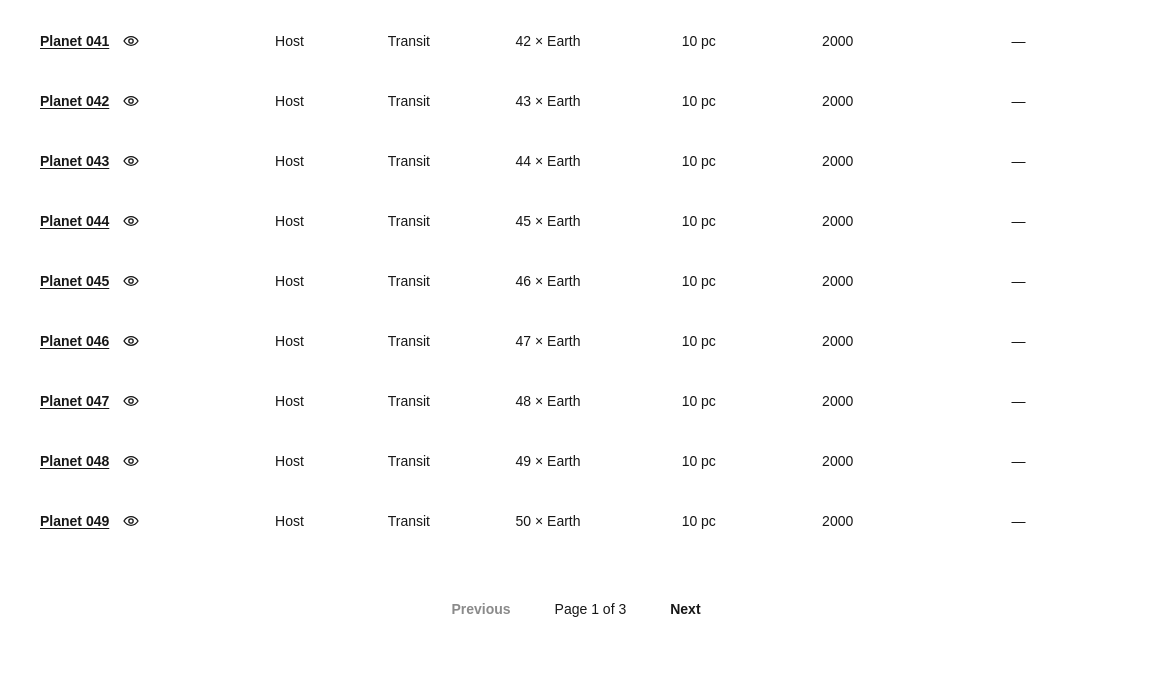
Test: ExploreClient range filters › returns to the first page when a range narrows the results under a later page
(page scrolled)
Click the button "Next": (685, 609) [650,591,721,627]
(page scrolled)
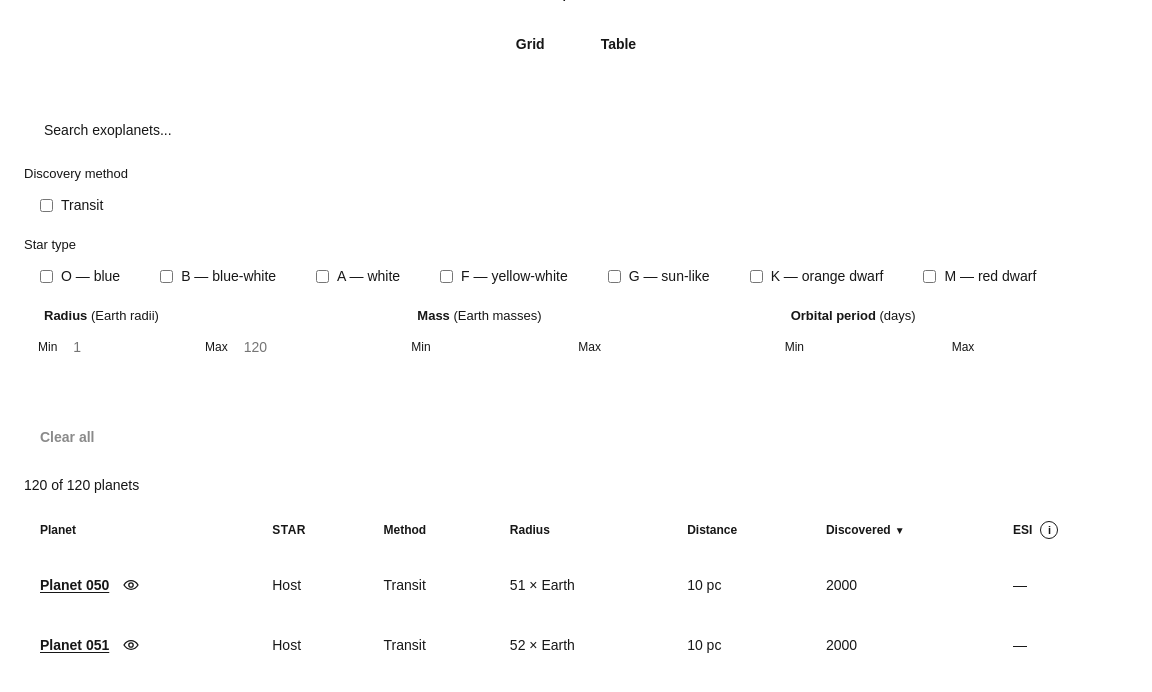
In the number field labelled "Max" below "Earth radii": (302, 347) [236,333,367,361], type "100"
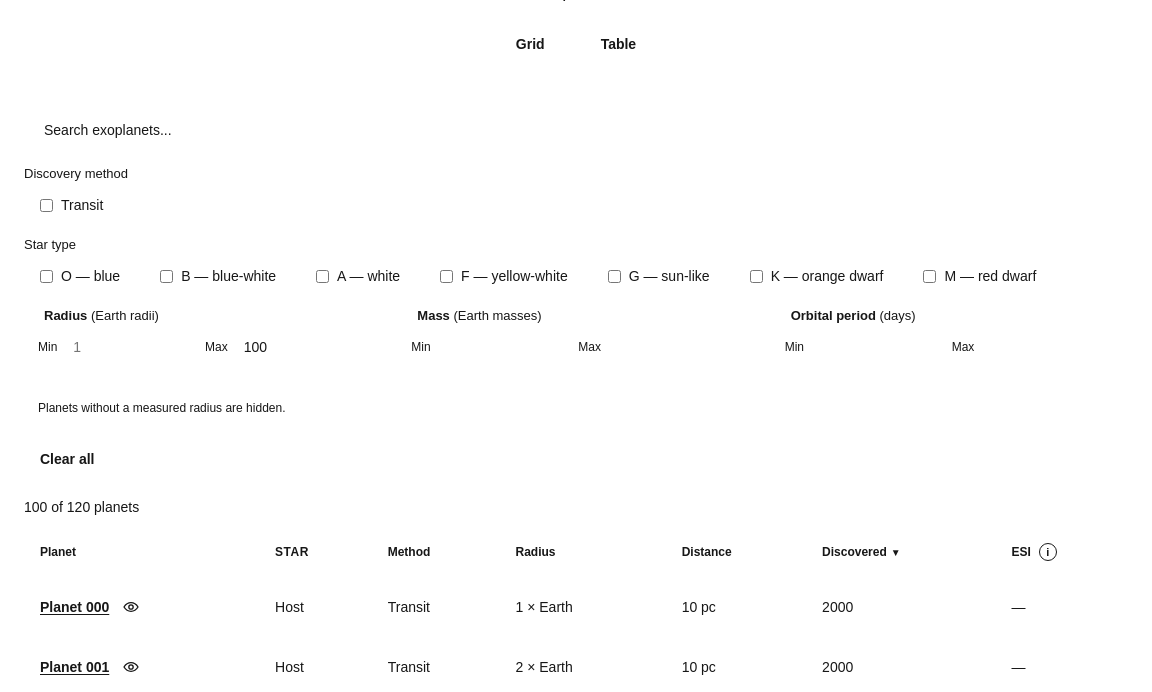
Expected: the text "100 of 120 planets" is shown, [24,499,139,515]
